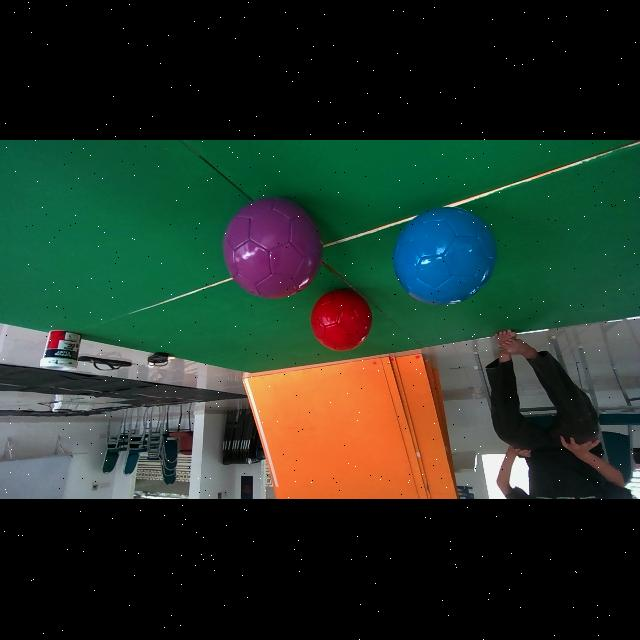B: (393, 209, 497, 305)
P: (223, 199, 323, 299)
R: (311, 291, 372, 351)
